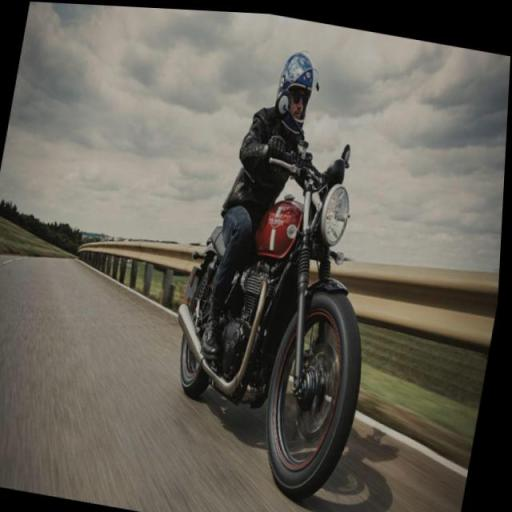Helmet: (265, 33, 330, 140)
Motor: (148, 120, 414, 512)
